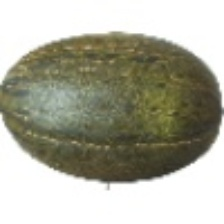honeydew: (32, 40, 224, 184)
